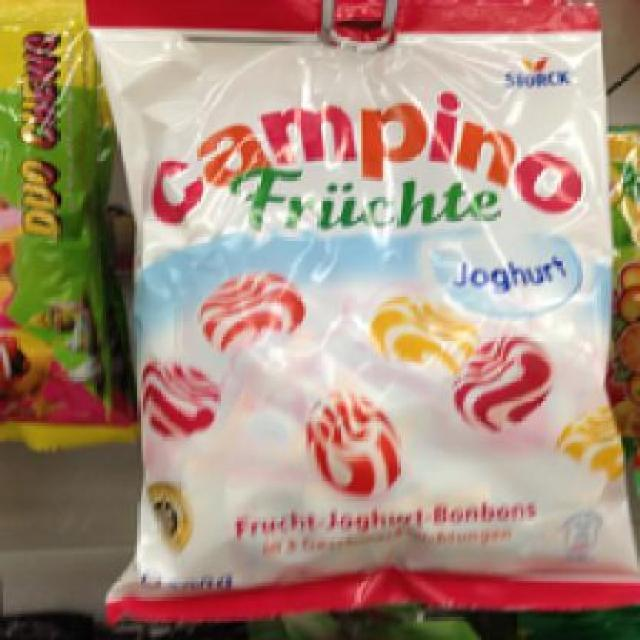Candy: (100, 16, 626, 612)
